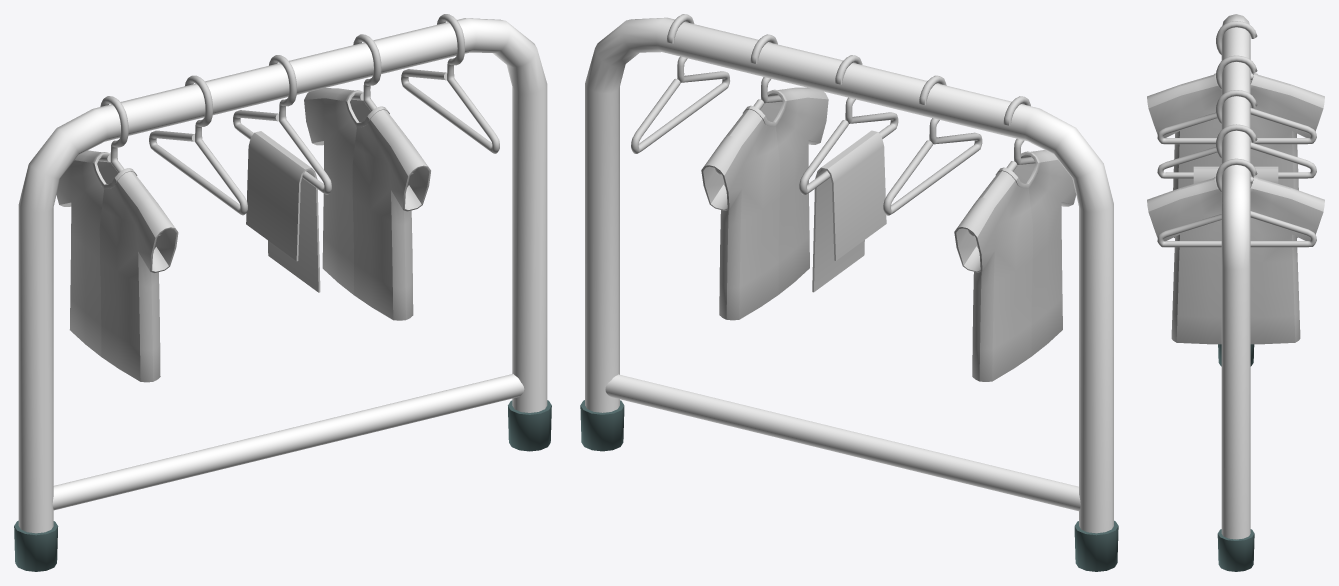
File: test_hanger1.fbx
The picture shows the model from 3 angles, left to right: view 1: azimuth 30°, elevation 25°; view 2: azimuth 150°, elevation 25°; view 3: azimuth 270°, elevation 25°; orthographic projection. The views are drawn at different scales.
Parts seen in each view (by area): view 1: Plane.001, Plane.017, Plane.016, Plane.018, Plane.015, Plane.012, Plane.013, Plane.014, Plane.011; view 2: Plane.001, Plane.017, Plane.016, Plane.018, Plane.012, Plane.015, Plane.013, Plane.011, Plane.014; view 3: Plane.017, Plane.001, Plane.016, Plane.015, Plane.012, Plane.013, Plane.018, Plane.011, Plane.014.
Part boxes in pixels (x1=…): Plane.001: x1=14, y1=18, x2=551, y2=571; Plane.017: x1=304, y1=88, x2=430, y2=320; Plane.016: x1=56, y1=150, x2=178, y2=382; Plane.018: x1=246, y1=131, x2=320, y2=292; Plane.015: x1=401, y1=14, x2=499, y2=153; Plane.012: x1=149, y1=75, x2=247, y2=215; Plane.013: x1=233, y1=55, x2=331, y2=194; Plane.014: x1=351, y1=34, x2=415, y2=174; Plane.011: x1=98, y1=96, x2=162, y2=235; Plane.001: x1=580, y1=17, x2=1118, y2=571; Plane.017: x1=701, y1=87, x2=828, y2=320; Plane.016: x1=954, y1=150, x2=1076, y2=381; Plane.018: x1=812, y1=130, x2=886, y2=292; Plane.012: x1=883, y1=75, x2=982, y2=215; Plane.015: x1=631, y1=14, x2=729, y2=153; Plane.013: x1=799, y1=55, x2=898, y2=195; Plane.011: x1=968, y1=96, x2=1035, y2=236; Plane.014: x1=715, y1=34, x2=782, y2=174; Plane.017: x1=1147, y1=176, x2=1324, y2=344; Plane.001: x1=1217, y1=14, x2=1254, y2=571; Plane.016: x1=1147, y1=73, x2=1324, y2=237; Plane.015: x1=1157, y1=158, x2=1316, y2=247; Plane.012: x1=1157, y1=55, x2=1316, y2=144; Plane.013: x1=1157, y1=90, x2=1316, y2=178; Plane.018: x1=1193, y1=166, x2=1278, y2=183; Plane.011: x1=1216, y1=21, x2=1257, y2=80; Plane.014: x1=1216, y1=124, x2=1257, y2=183.
Bounding box in the file's own units: 316 × 253 × 109.
